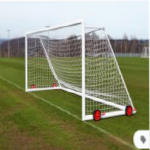goals: (23, 18, 137, 120)
